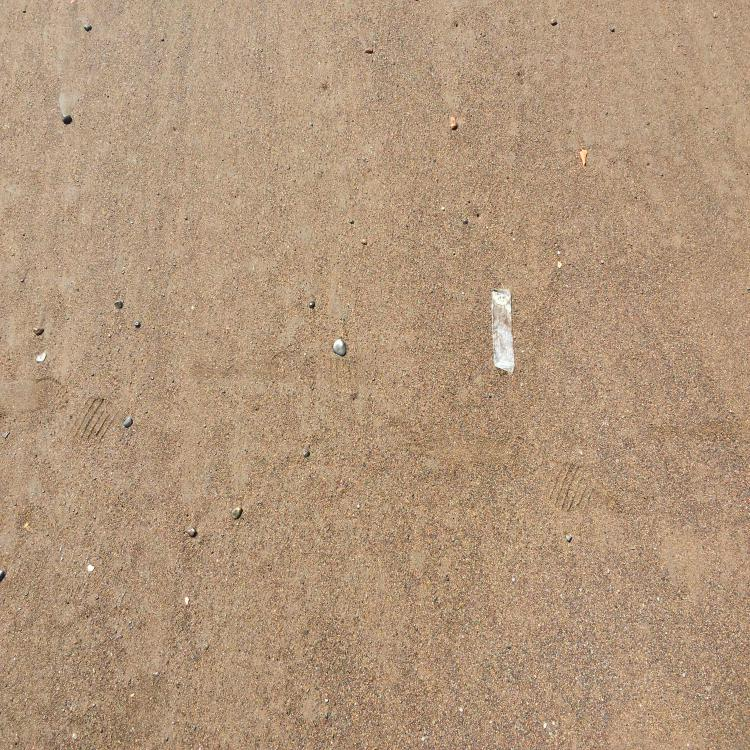Plastic film: (492, 289, 514, 374)
